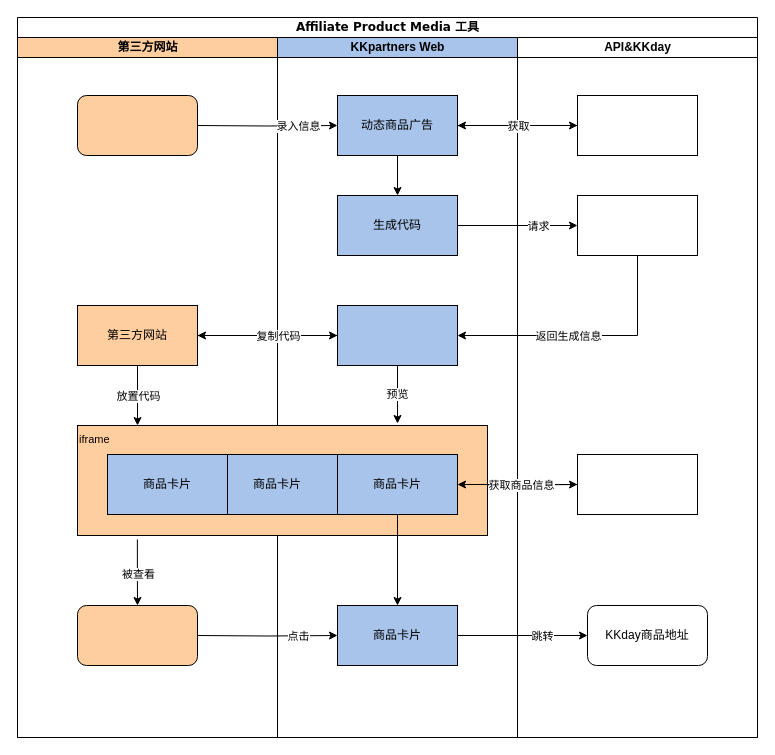
This 775x755 diagram has some shape labels left out. Here are the shapes that lost their labels. From the top down, the centre of each, then its label:
(x=137, y=125): 联盟成员
(x=637, y=125): 选项信息API
(x=637, y=225): 生成代码API
(x=397, y=335): HTML代码&脚本
(x=637, y=484): KKday商品信息API
(x=137, y=635): 用户
